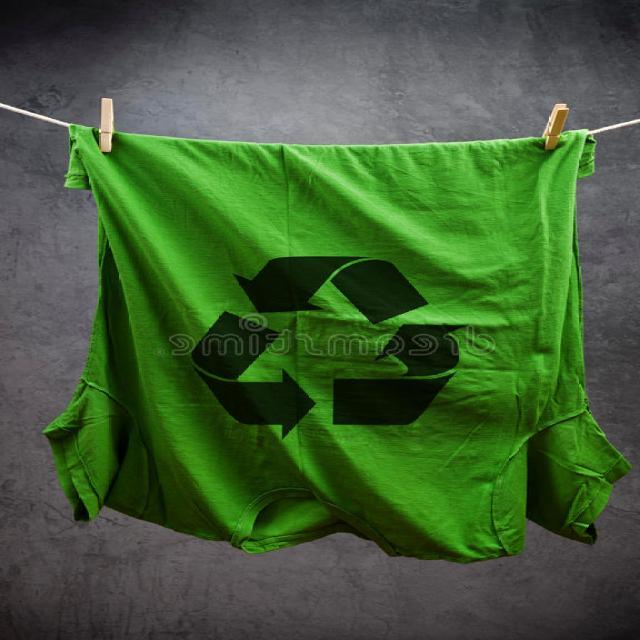clothes: (59, 148, 630, 550)
